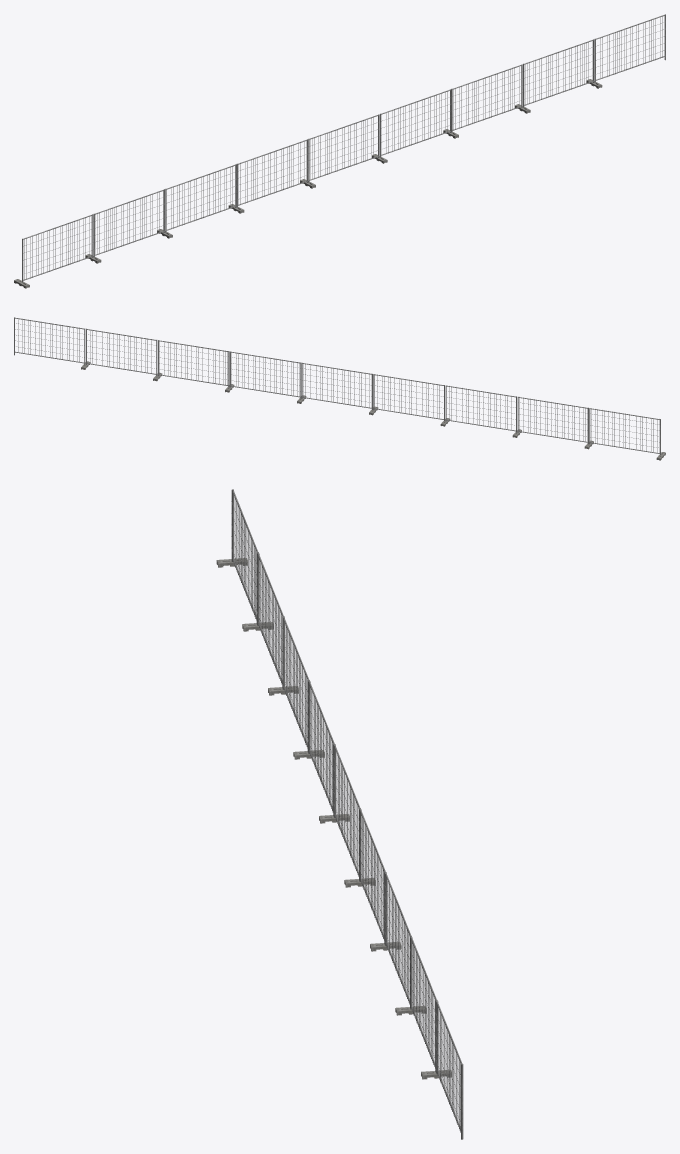
The model's file is westwallS.glb.
The picture shows the model from 3 angles, top to bottom: view 1: azimuth 30°, elevation 25°; view 2: azimuth 150°, elevation 25°; view 3: azimuth 270°, elevation 25°; orthographic projection. The views are drawn at different scales.
Parts seen in each view (by area): view 1: FenceNewB02_FencesNewShader_0.030, FenceNewB02_FencesNewShader_0.023, FenceNewB02_FencesNewShader_0.024, FenceNewB02_FencesNewShader_0.031, FenceNewB02_FencesNewShader_0.026, FenceNewB02_FencesNewShader_0.029, FenceNewB02_FencesNewShader_0.027, FenceNewB02_FencesNewShader_0.025, FenceNewB02_FencesNewShader_0.028; view 2: FenceNewB02_FencesNewShader_0.028, FenceNewB02_FencesNewShader_0.027, FenceNewB02_FencesNewShader_0.024, FenceNewB02_FencesNewShader_0.023, FenceNewB02_FencesNewShader_0.029, FenceNewB02_FencesNewShader_0.031, FenceNewB02_FencesNewShader_0.025, FenceNewB02_FencesNewShader_0.026, FenceNewB02_FencesNewShader_0.030; view 3: FenceNewB02_FencesNewShader_0.031, FenceNewB02_FencesNewShader_0.025, FenceNewB02_FencesNewShader_0.023, FenceNewB02_FencesNewShader_0.026, FenceNewB02_FencesNewShader_0.028, FenceNewB02_FencesNewShader_0.029, FenceNewB02_FencesNewShader_0.027, FenceNewB02_FencesNewShader_0.030, FenceNewB02_FencesNewShader_0.024.
Boxes of the visible parts, bbox=[...] form: FenceNewB02_FencesNewShader_0.030: bbox=[515, 39, 594, 113]; FenceNewB02_FencesNewShader_0.023: bbox=[14, 214, 93, 288]; FenceNewB02_FencesNewShader_0.024: bbox=[85, 189, 164, 263]; FenceNewB02_FencesNewShader_0.031: bbox=[586, 14, 665, 88]; FenceNewB02_FencesNewShader_0.026: bbox=[228, 139, 307, 213]; FenceNewB02_FencesNewShader_0.029: bbox=[443, 64, 522, 138]; FenceNewB02_FencesNewShader_0.027: bbox=[300, 114, 379, 188]; FenceNewB02_FencesNewShader_0.025: bbox=[157, 164, 236, 238]; FenceNewB02_FencesNewShader_0.028: bbox=[372, 89, 451, 163]; FenceNewB02_FencesNewShader_0.028: bbox=[229, 351, 306, 403]; FenceNewB02_FencesNewShader_0.027: bbox=[301, 362, 378, 415]; FenceNewB02_FencesNewShader_0.024: bbox=[517, 396, 593, 449]; FenceNewB02_FencesNewShader_0.023: bbox=[589, 408, 665, 460]; FenceNewB02_FencesNewShader_0.029: bbox=[158, 340, 234, 392]; FenceNewB02_FencesNewShader_0.031: bbox=[14, 317, 90, 369]; FenceNewB02_FencesNewShader_0.025: bbox=[445, 385, 521, 437]; FenceNewB02_FencesNewShader_0.026: bbox=[373, 374, 450, 426]; FenceNewB02_FencesNewShader_0.030: bbox=[86, 328, 162, 381]; FenceNewB02_FencesNewShader_0.031: bbox=[421, 1001, 463, 1139]; FenceNewB02_FencesNewShader_0.025: bbox=[268, 617, 309, 751]; FenceNewB02_FencesNewShader_0.023: bbox=[216, 489, 258, 624]; FenceNewB02_FencesNewShader_0.026: bbox=[293, 681, 335, 816]; FenceNewB02_FencesNewShader_0.028: bbox=[344, 809, 386, 944]; FenceNewB02_FencesNewShader_0.029: bbox=[370, 873, 411, 1007]; FenceNewB02_FencesNewShader_0.027: bbox=[319, 745, 360, 879]; FenceNewB02_FencesNewShader_0.030: bbox=[395, 937, 437, 1071]; FenceNewB02_FencesNewShader_0.024: bbox=[242, 553, 284, 687].
Size of the model in its own units: 35.65 by 2.18 by 6.42.
Materials: 1 (1 with a texture image).
